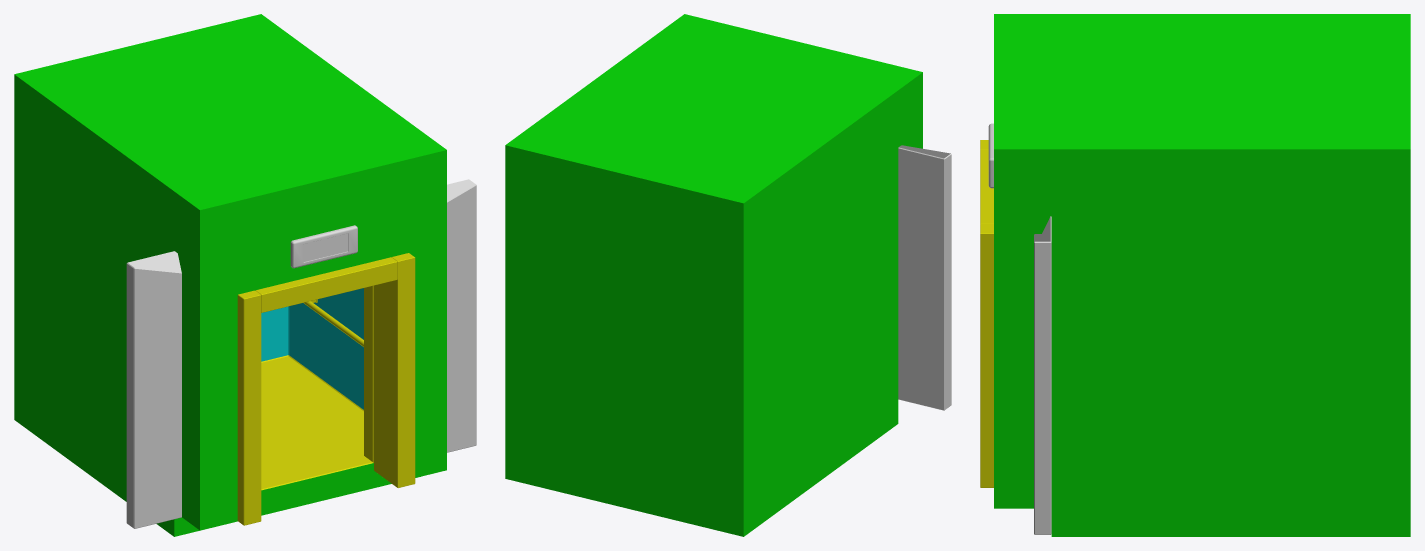
The model's file is FBX_elevator.fbx.
3 views of the same model, side by side, from view 1: azimuth 30°, elevation 25°; view 2: azimuth 150°, elevation 25°; view 3: azimuth 270°, elevation 25° (orthographic). The views are drawn at different scales.
Parts seen in each view (by area): view 1: FBX_elevator, FBX_elevator_Door_Left, FBX_elevator_Door_Right, FBX_elevator_main_LED_Body, FBX_elevator_main_LED; view 2: FBX_elevator, FBX_elevator_Door_Left; view 3: FBX_elevator, FBX_elevator_Door_Right.
Part boxes in pixels (x1,y1,x2,y2): FBX_elevator: [14, 14, 446, 536]; FBX_elevator_Door_Left: [126, 251, 181, 528]; FBX_elevator_Door_Right: [447, 179, 476, 452]; FBX_elevator_main_LED_Body: [290, 225, 357, 268]; FBX_elevator_main_LED: [303, 233, 347, 262]; FBX_elevator: [505, 14, 922, 536]; FBX_elevator_Door_Left: [898, 145, 951, 410]; FBX_elevator: [980, 14, 1410, 536]; FBX_elevator_Door_Right: [1034, 216, 1051, 534].
Bounding box in the file's own units: 600 × 578 × 581.
